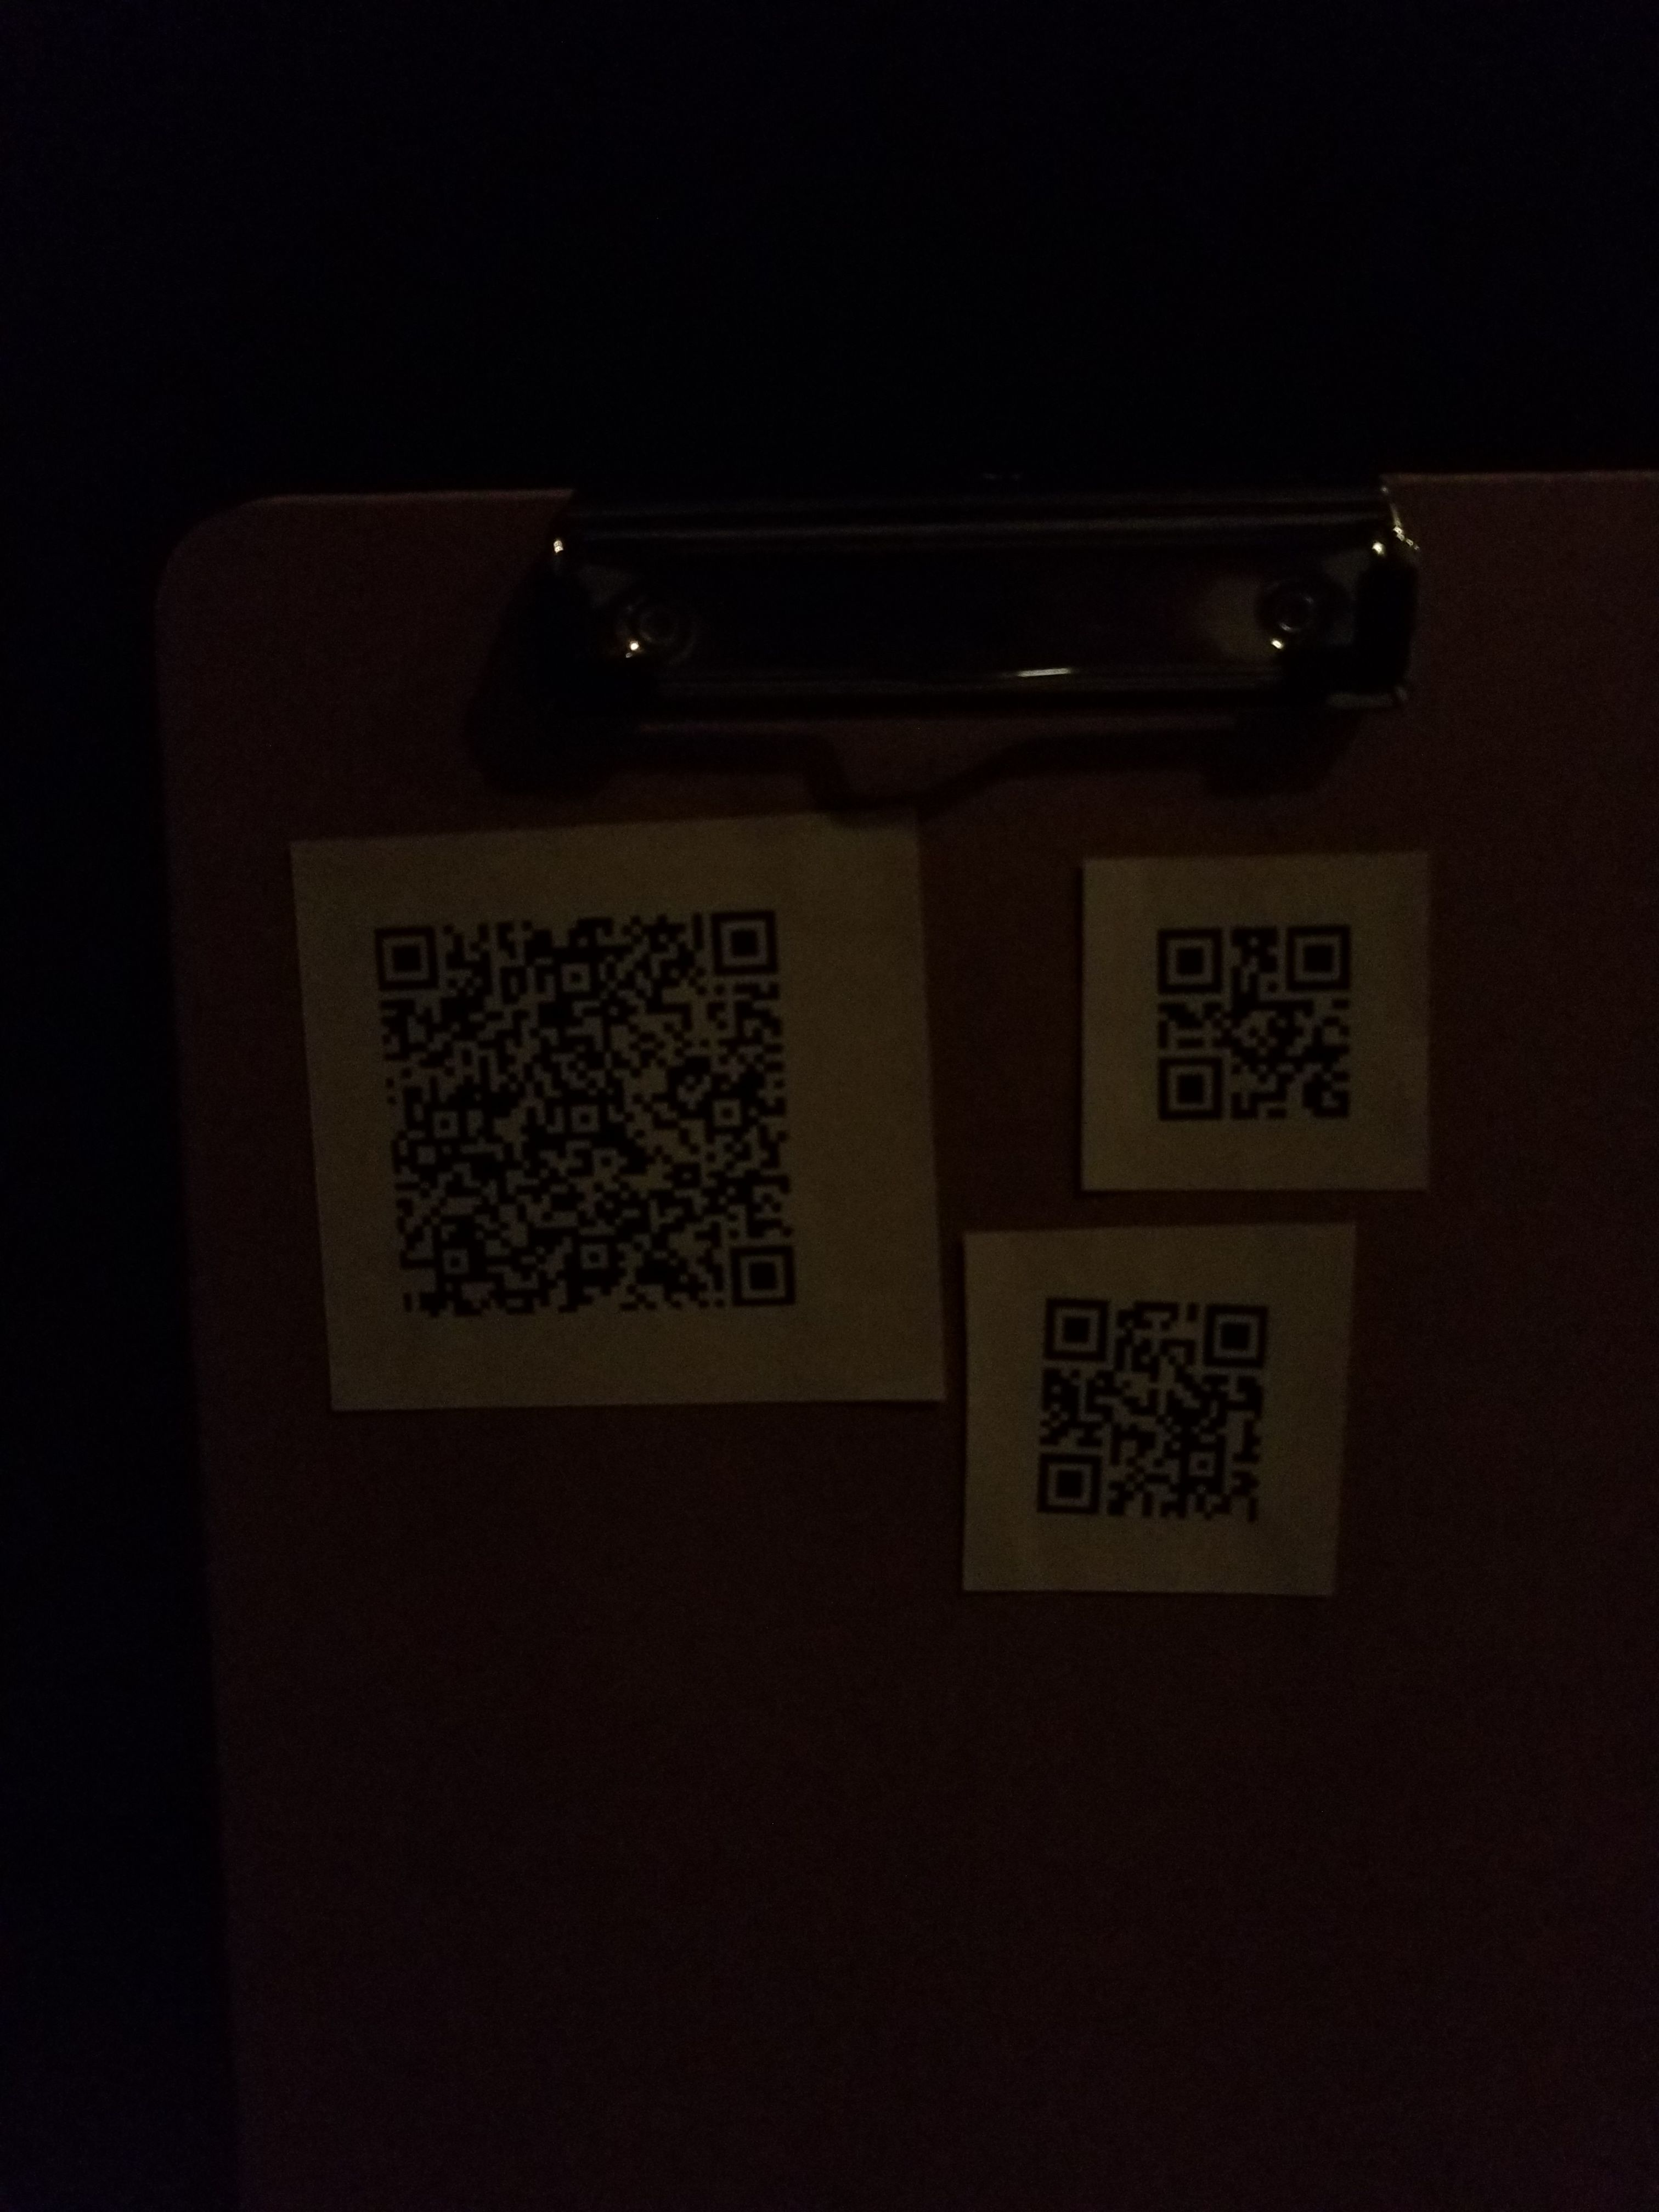QR_CODE: (340, 859, 828, 1346), (1011, 1254, 1316, 1559), (1126, 887, 1399, 1158)
